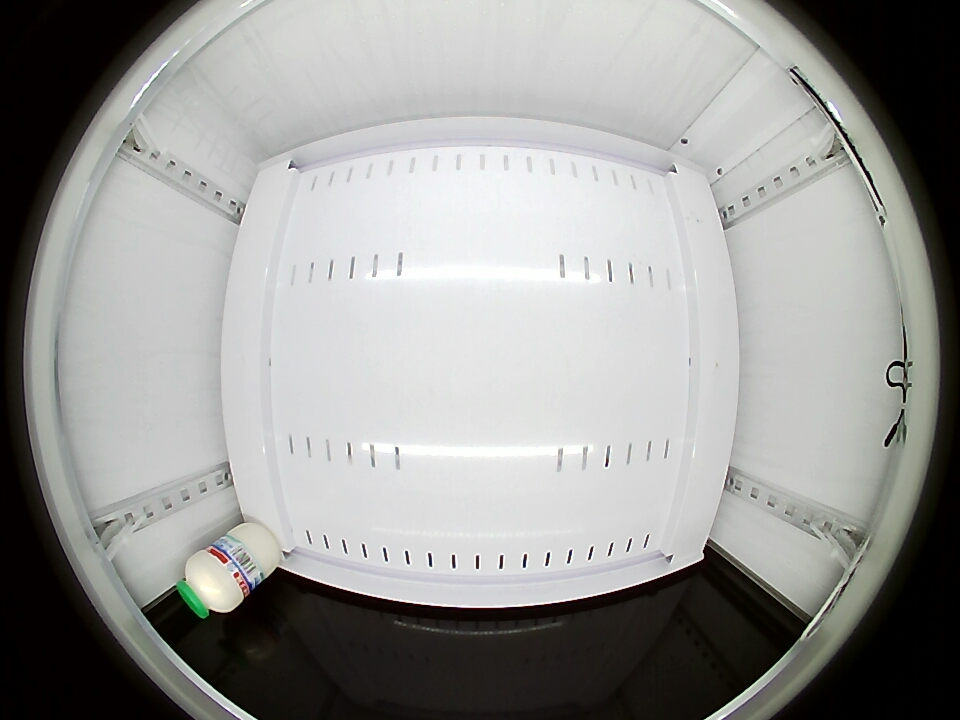liziyuan: (177, 546, 246, 619)
